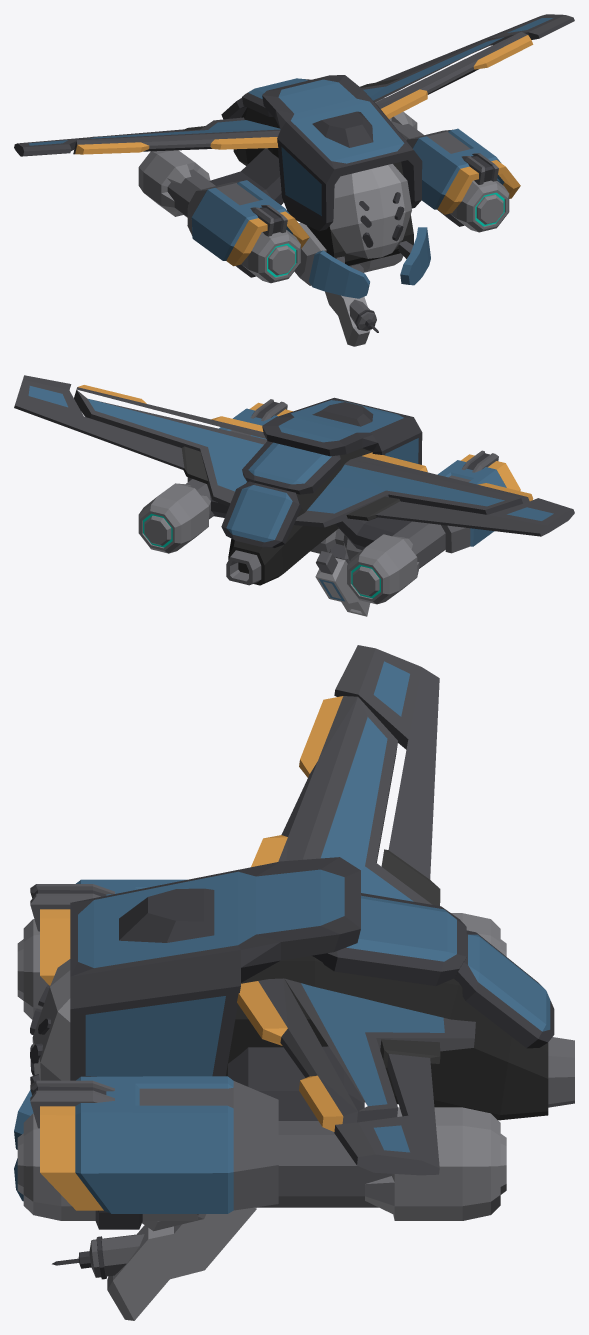
The model's file is SM_Veh_Drone_Repair_01.glb.
3 views of the same model, one above another, from view 1: azimuth 30°, elevation 25°; view 2: azimuth 150°, elevation 25°; view 3: azimuth 270°, elevation 25° (orthographic). The views are drawn at different scales.
Parts seen in each view (by area): view 1: SM_Veh_Drone_Repair_01; view 2: SM_Veh_Drone_Repair_01; view 3: SM_Veh_Drone_Repair_01.
Boxes of the visible parts, x1,y1,x2,y2 form: SM_Veh_Drone_Repair_01: (14, 14, 574, 346); SM_Veh_Drone_Repair_01: (14, 375, 574, 616); SM_Veh_Drone_Repair_01: (14, 645, 574, 1320).
Size of the model in its own units: 4.33 by 1.64 by 2.
Materials: 1 (1 with a texture image).
